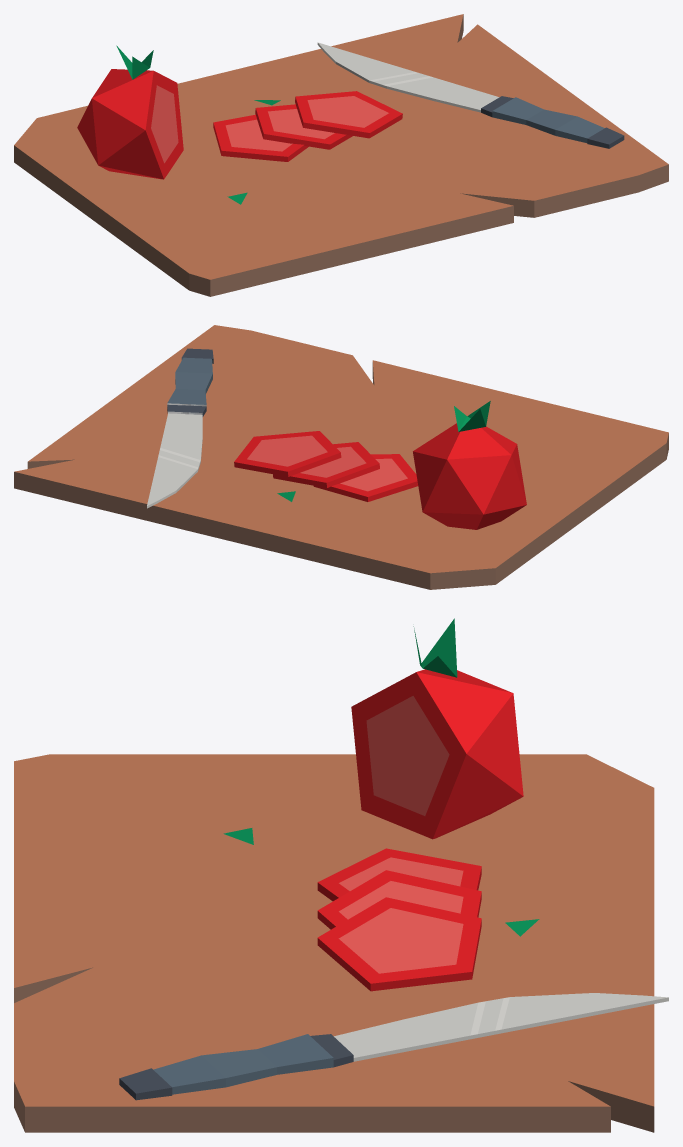
Rendered from chopping-board-type-02.obj.
3 views of the same model, one above another, from view 1: azimuth 30°, elevation 25°; view 2: azimuth 150°, elevation 25°; view 3: azimuth 270°, elevation 25° (orthographic). The views are drawn at different scales.
Parts seen in each view (by area): view 1: chopping-board-type-02; view 2: chopping-board-type-02; view 3: chopping-board-type-02.
Part boxes in pixels (left/top/right/bottom): chopping-board-type-02: left=14, top=14, right=668, bottom=296; chopping-board-type-02: left=14, top=325, right=668, bottom=589; chopping-board-type-02: left=14, top=618, right=668, bottom=1132.
Size of the model in its own units: 0.2363 by 0.065 by 0.1856.
